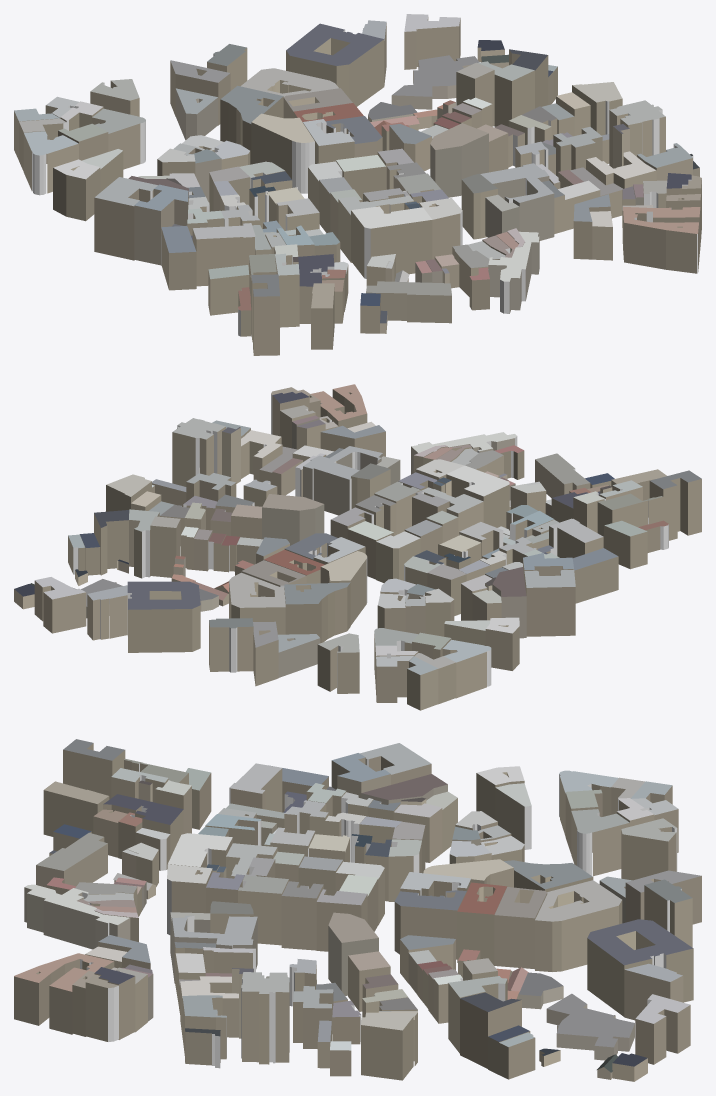
3 views of the same model, one above another, from view 1: azimuth 30°, elevation 25°; view 2: azimuth 150°, elevation 25°; view 3: azimuth 270°, elevation 25° (orthographic). The views are drawn at different scales.
Parts seen in each view (by area): view 1: tuile; view 2: tuile; view 3: tuile.
Part boxes in pixels (box(x1,y1,x2,y2)): tuile: box(14, 14, 701, 355); tuile: box(14, 384, 701, 710); tuile: box(14, 739, 701, 1081).
Size of the model in its own units: 263 by 36.35 by 279.
